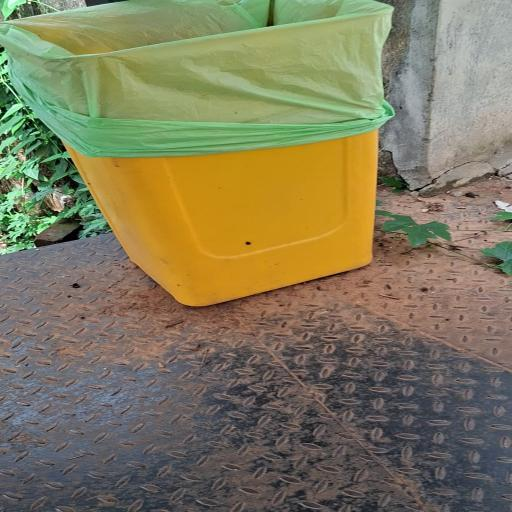Nilkamal-dustbin-detection: (0, 0, 392, 306)
